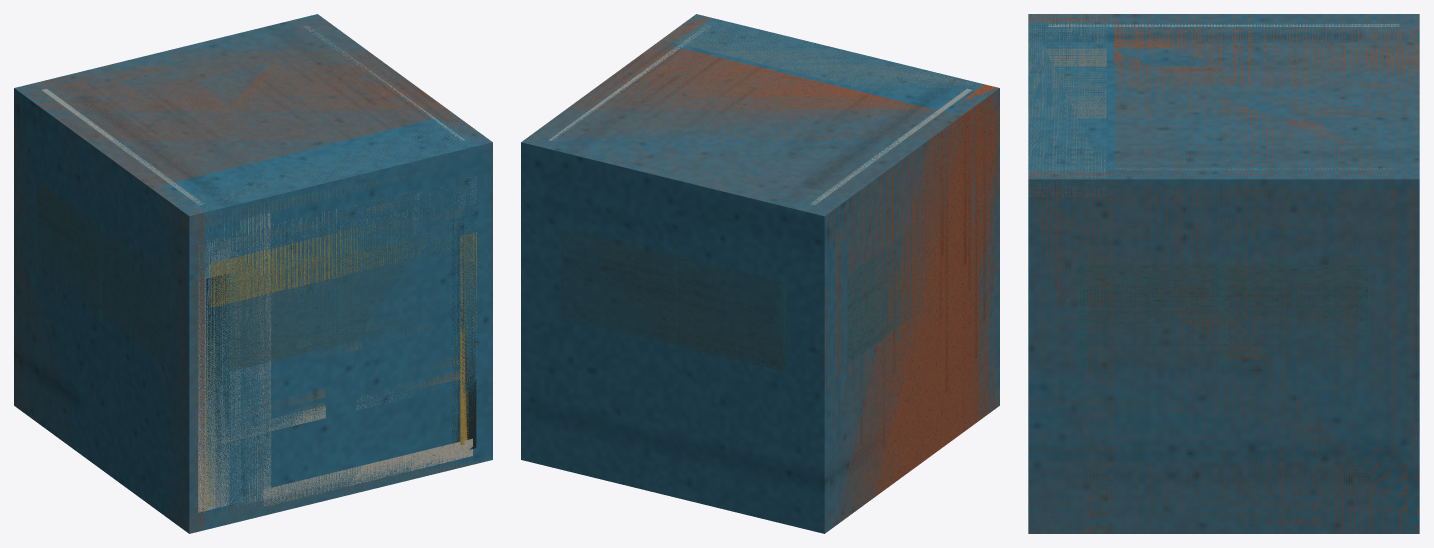
File: Rainline_Identity_v4.glb
3 views of the same model, side by side, from view 1: azimuth 30°, elevation 25°; view 2: azimuth 150°, elevation 25°; view 3: azimuth 270°, elevation 25° (orthographic). The views are drawn at different scales.
Parts seen in each view (by area): view 1: transit_wall__metal, loading_ground__masonry, transit_wall__glazing, loading_ground__metal, control_ground__mineral, transit_ground__mineral, loading_upper__metal, transit_ground__metal, transit_deck__metal, residential_ground__mineral, residential_ground__metal, residential_upper__metal (+1 smaller); view 2: transit_wall__metal, loading_ground__masonry, transit_wall__glazing, loading_ground__metal, transit_deck__metal; view 3: transit_wall__metal, loading_ground__masonry, transit_wall__glazing, loading_ground__metal, transit_deck__metal.
Boxes of the visible parts, x1,y1,x2,y2 form: transit_wall__metal: (14,14,492,533); loading_ground__masonry: (14,14,492,533); transit_wall__glazing: (37,181,451,371); loading_ground__metal: (154,121,492,507); control_ground__mineral: (204,213,472,512); transit_ground__mineral: (198,227,477,512); loading_upper__metal: (205,181,476,507); transit_ground__metal: (230,183,451,413); transit_deck__metal: (42,26,464,205); residential_ground__mineral: (207,176,476,443); residential_ground__metal: (221,223,464,420); residential_upper__metal: (234,207,464,426); transit_wall__metal: (521,14,999,533); loading_ground__masonry: (522,14,999,532); transit_wall__glazing: (560,219,930,371); loading_ground__metal: (663,15,982,98); transit_deck__metal: (549,25,971,204); transit_wall__metal: (1028,14,1419,533); loading_ground__masonry: (1028,14,1419,533); transit_wall__glazing: (1079,264,1368,363); loading_ground__metal: (1028,14,1106,196); transit_deck__metal: (1048,24,1399,169).
Size of the model in its own units: 1 by 1 by 1.
4 materials, 4 textured.
